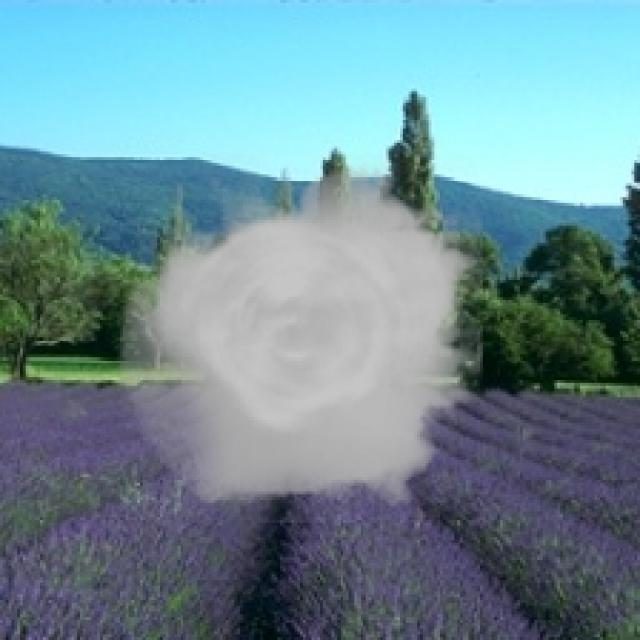Smoke: (117, 154, 483, 523)
